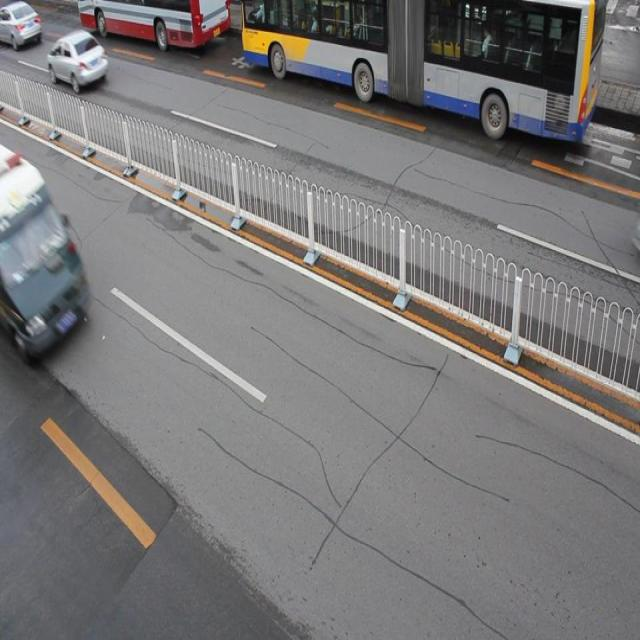car: (48, 28, 107, 92), (0, 1, 42, 50)
truck: (1, 146, 91, 354)
van: (241, 2, 602, 144), (78, 1, 231, 46)
